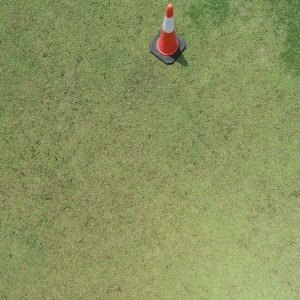traffic cone: (149, 3, 186, 64)
